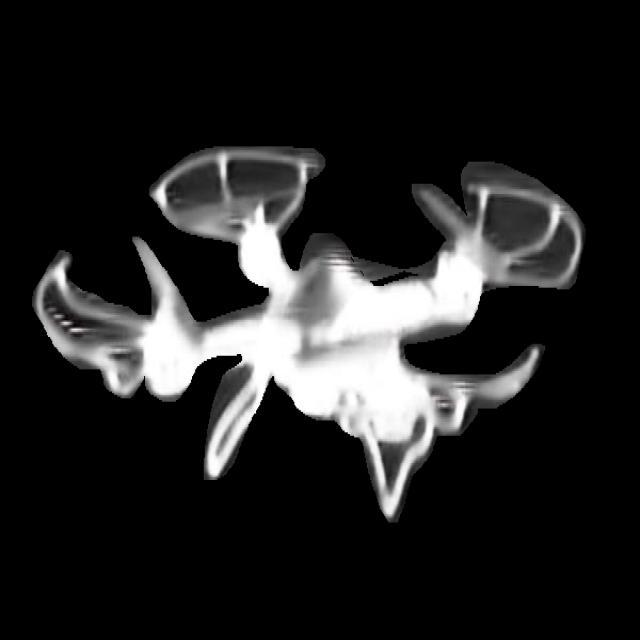drone: (29, 96, 604, 534)
